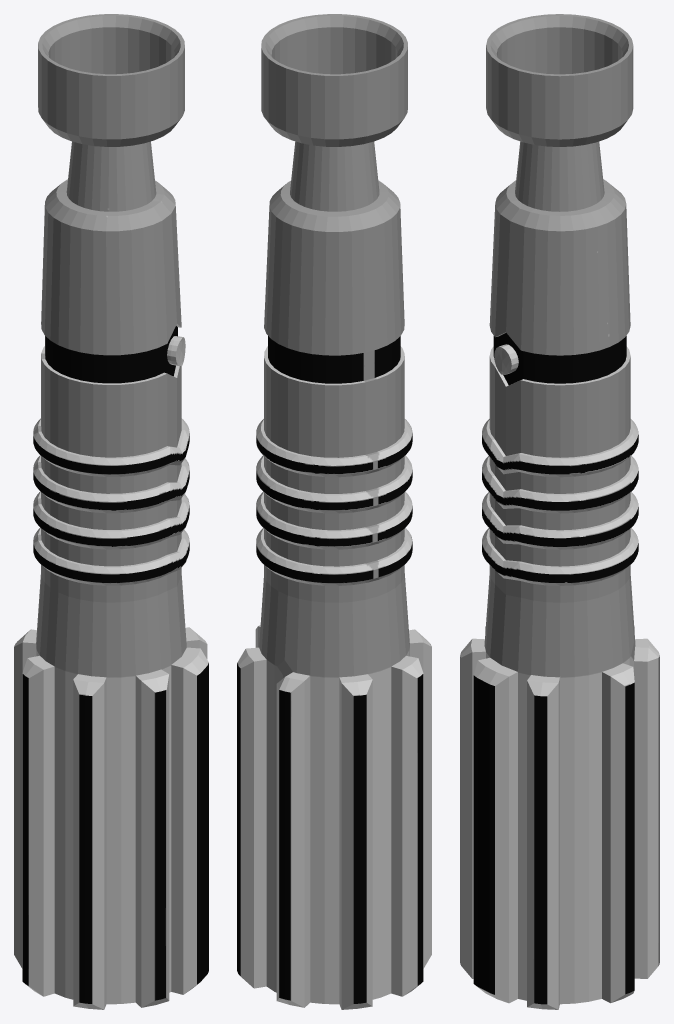
Rendered from Lightsaber.fbx.
3 renders of one model, left to right at view 1: azimuth 30°, elevation 25°; view 2: azimuth 150°, elevation 25°; view 3: azimuth 270°, elevation 25°, orthographic.
Visible parts, largest first — view 1: Lightsaber; view 2: Lightsaber; view 3: Lightsaber.
Part boxes in pixels (x1=…): Lightsaber: x1=14, y1=14, x2=208, y2=1009; Lightsaber: x1=237, y1=14, x2=431, y2=1009; Lightsaber: x1=460, y1=14, x2=659, y2=1009.
Size of the model in its own units: 262 by 1355 by 264.
